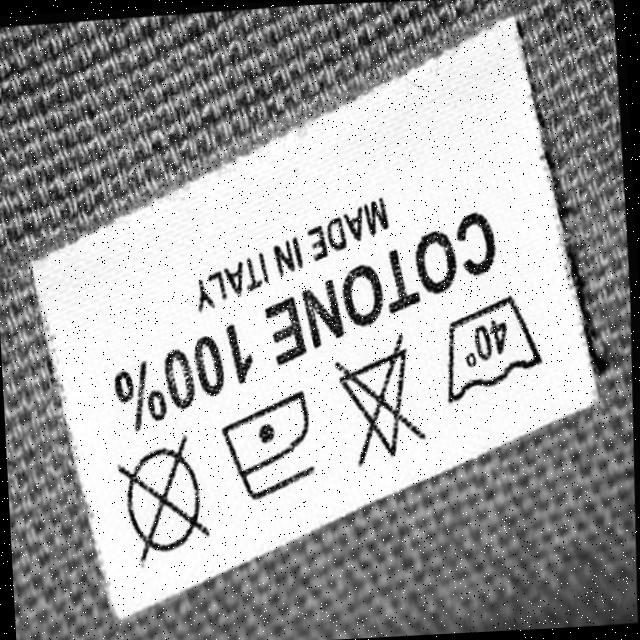ER_iron_low_temp: (220, 390, 324, 497)
ER_no_bleach: (327, 346, 427, 458)
ER_no_dry_clean: (112, 436, 218, 563)
ER_wash_40: (440, 295, 544, 403)
